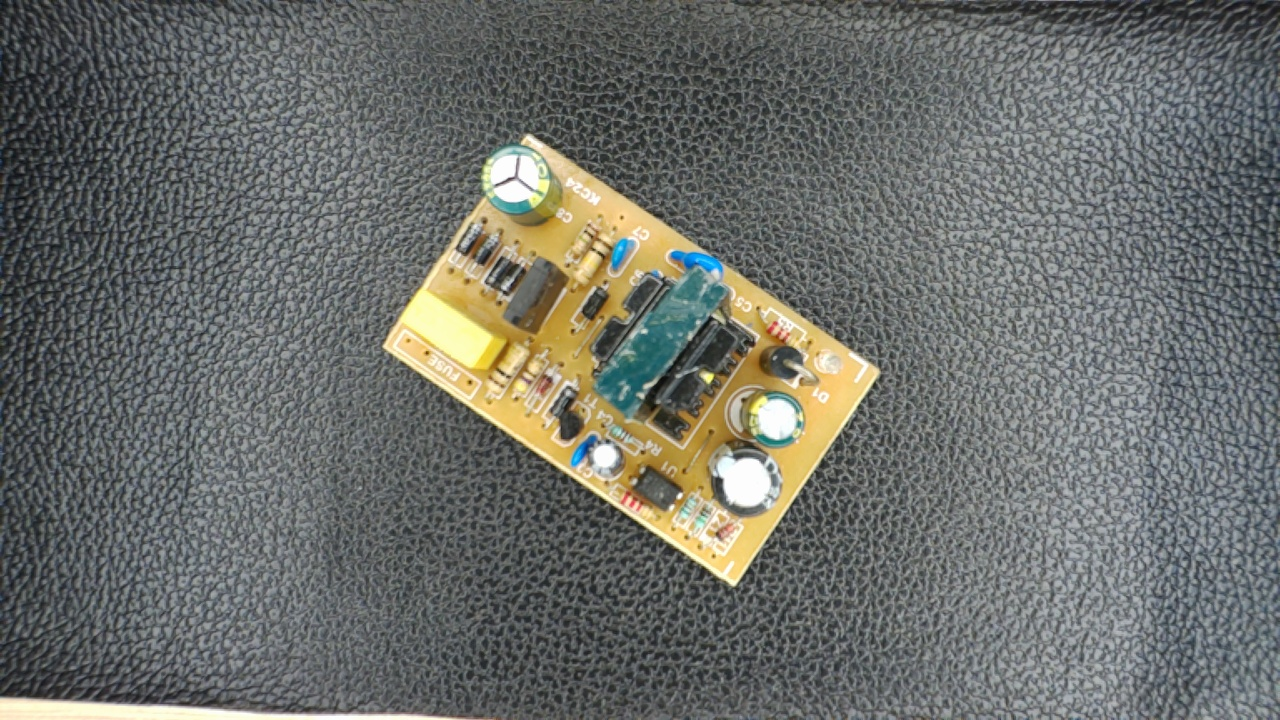hv_capacitor: (482, 144, 560, 225)
mov: (666, 246, 731, 284)
optocoupler: (626, 459, 686, 512)
